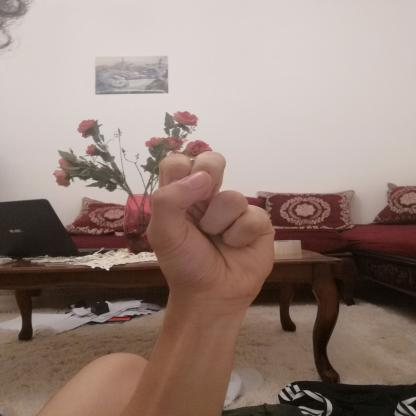QAAF: (128, 144, 294, 320)
